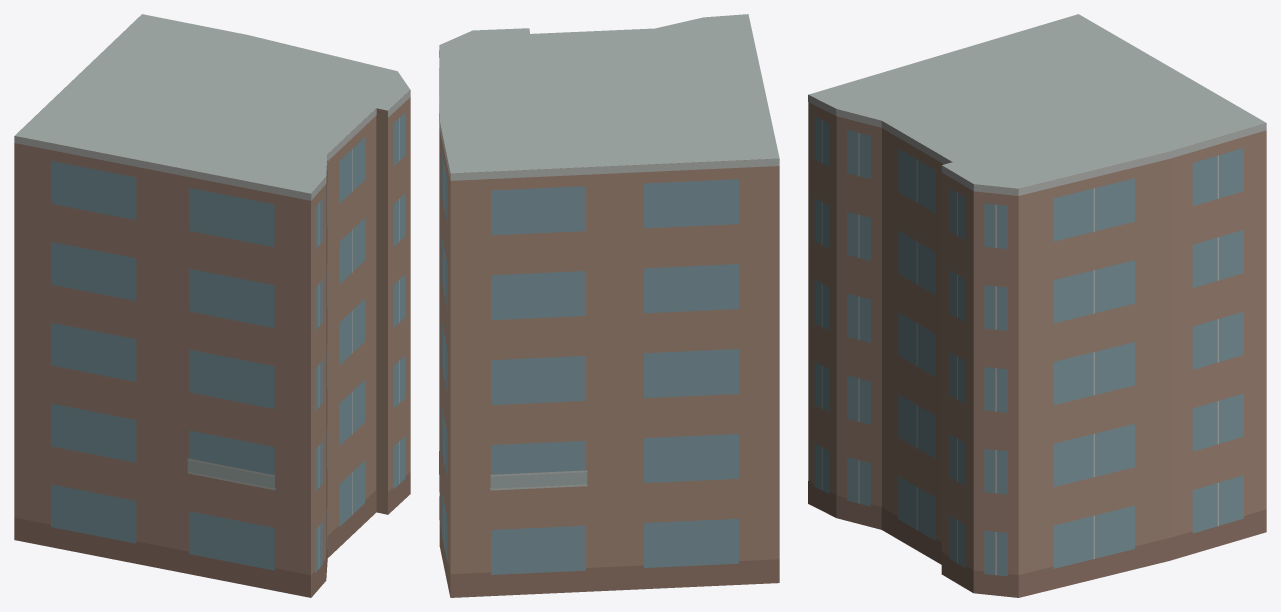
Rendered from survey-upis-32888425.glb.
3 renders of one model, left to right at view 1: azimuth 30°, elevation 25°; view 2: azimuth 150°, elevation 25°; view 3: azimuth 270°, elevation 25°, orthographic. The views are drawn at different scales.
Visible parts, largest first — view 1: survey-upis-32888425.tmp; view 2: survey-upis-32888425.tmp; view 3: survey-upis-32888425.tmp.
Part boxes in pixels (x1,y1,x2,y2): survey-upis-32888425.tmp: (14, 14, 410, 597); survey-upis-32888425.tmp: (439, 14, 779, 597); survey-upis-32888425.tmp: (808, 14, 1266, 597).
Size of the model in its own units: 12.65 by 13.8 by 14.02.
